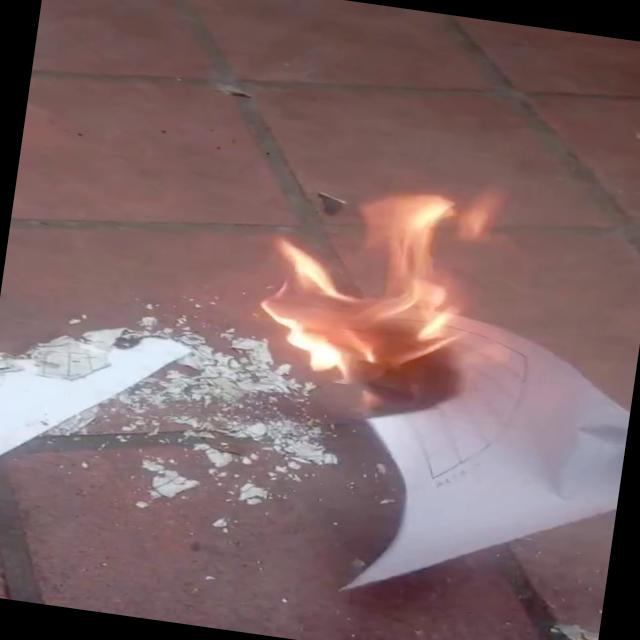Fire_Dangerous: (236, 172, 507, 412)
